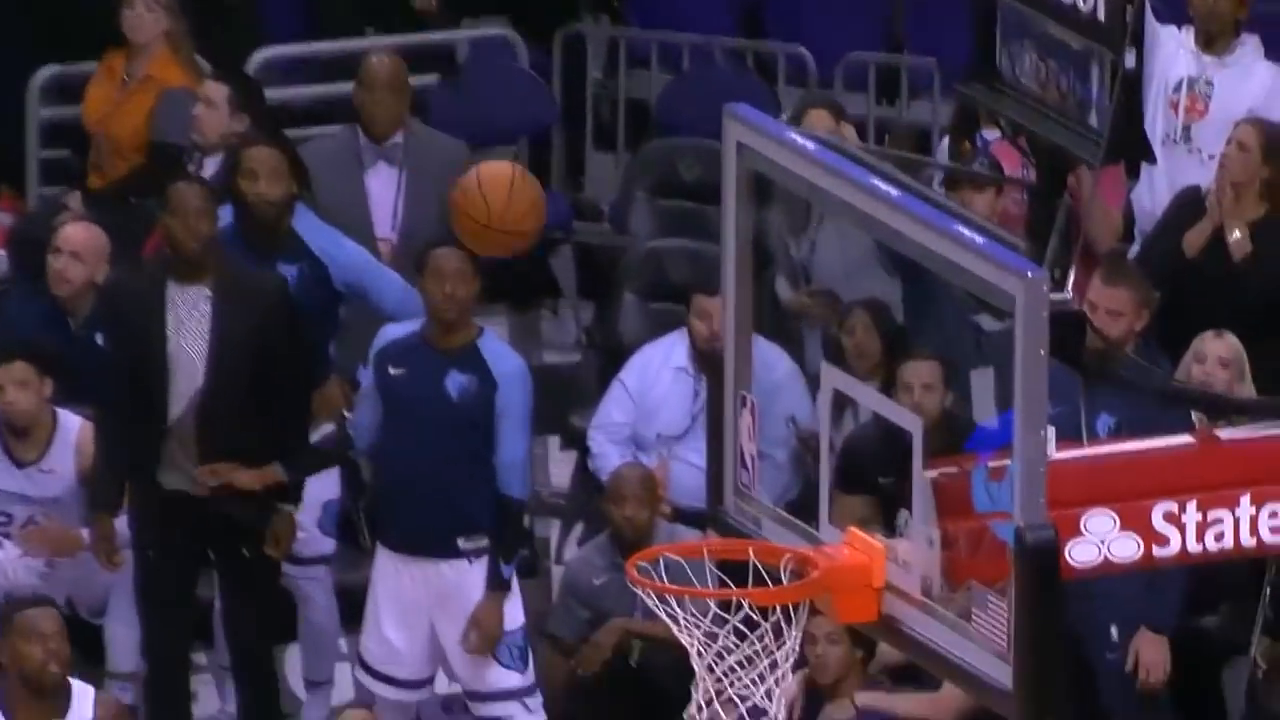ball: (450, 162, 558, 258)
